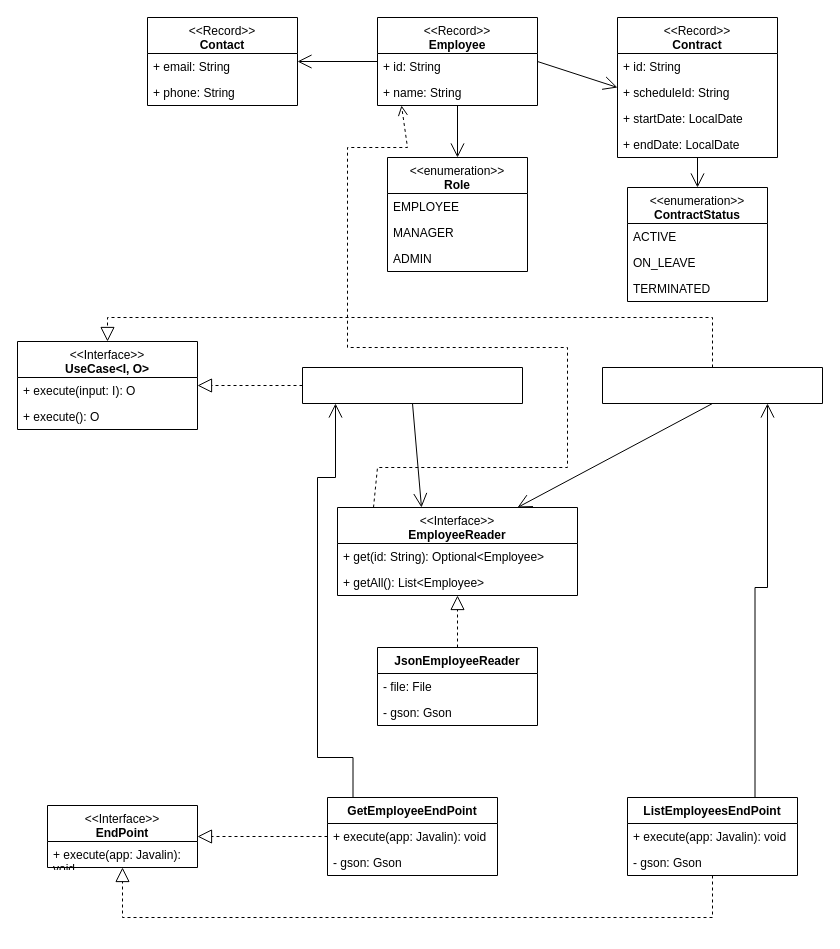
Some shapes in this 840 by 949 pixel diagram are drawn without their labels. Here are the shapes that lost their labels. From the top down, the centre of each, then its label:
At pixel 412 385: "GetEmployeeUseCase".
At pixel 712 385: "ListEmployeesUseCase".
